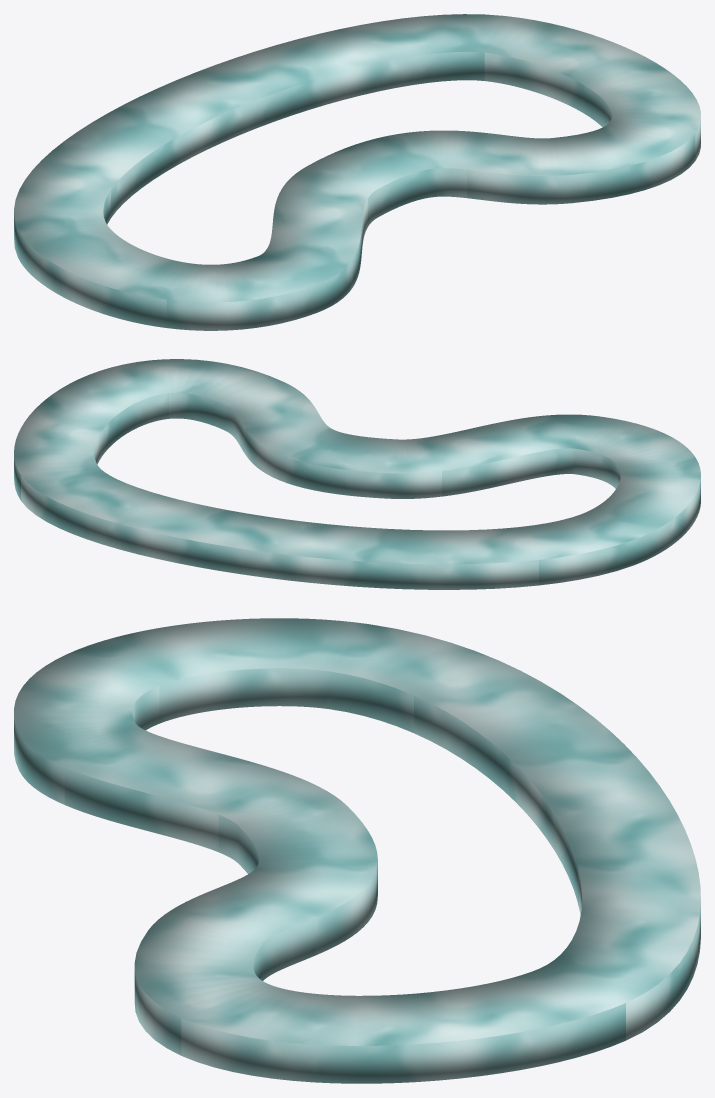
The model's file is RaceTrial01.fbx.
3 views of the same model, one above another, from view 1: azimuth 30°, elevation 25°; view 2: azimuth 150°, elevation 25°; view 3: azimuth 270°, elevation 25° (orthographic). The views are drawn at different scales.
Visible parts, largest first — view 1: RaceTrial01Visual; view 2: RaceTrial01Visual; view 3: RaceTrial01Visual.
Part boxes in pixels (x1=…): RaceTrial01Visual: x1=14, y1=14, x2=700, y2=330; RaceTrial01Visual: x1=14, y1=359, x2=700, y2=589; RaceTrial01Visual: x1=14, y1=618, x2=700, y2=1083.
Size of what is drawn, in the model's own units: 60.32 by 40.94 by 2.48.
